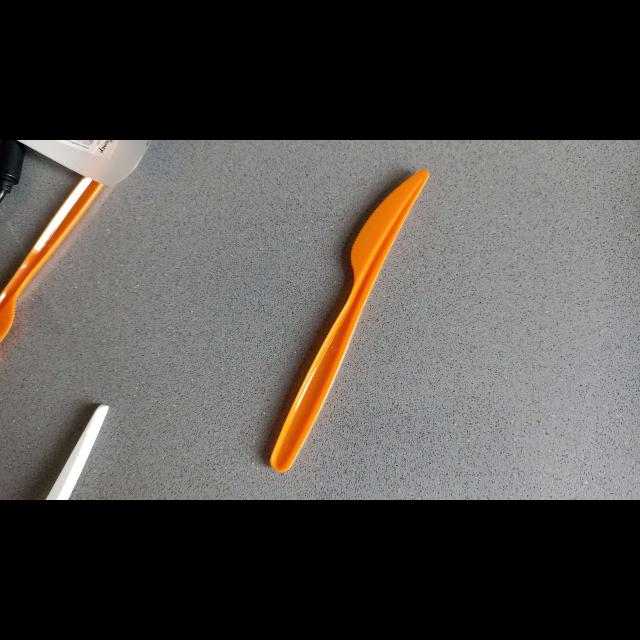plastic_cultery: (268, 165, 432, 475)
